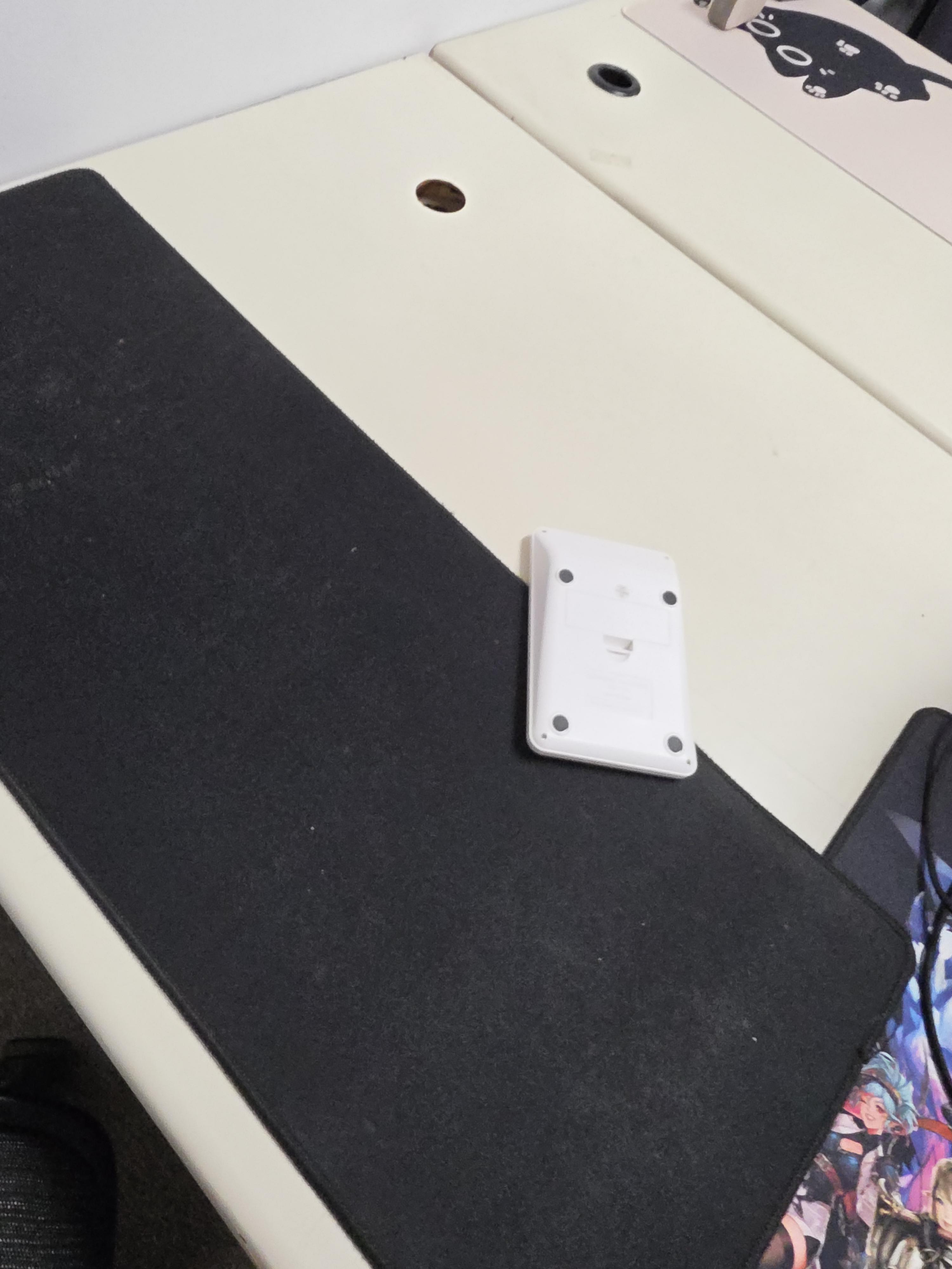calculator: (521, 527, 699, 779)
